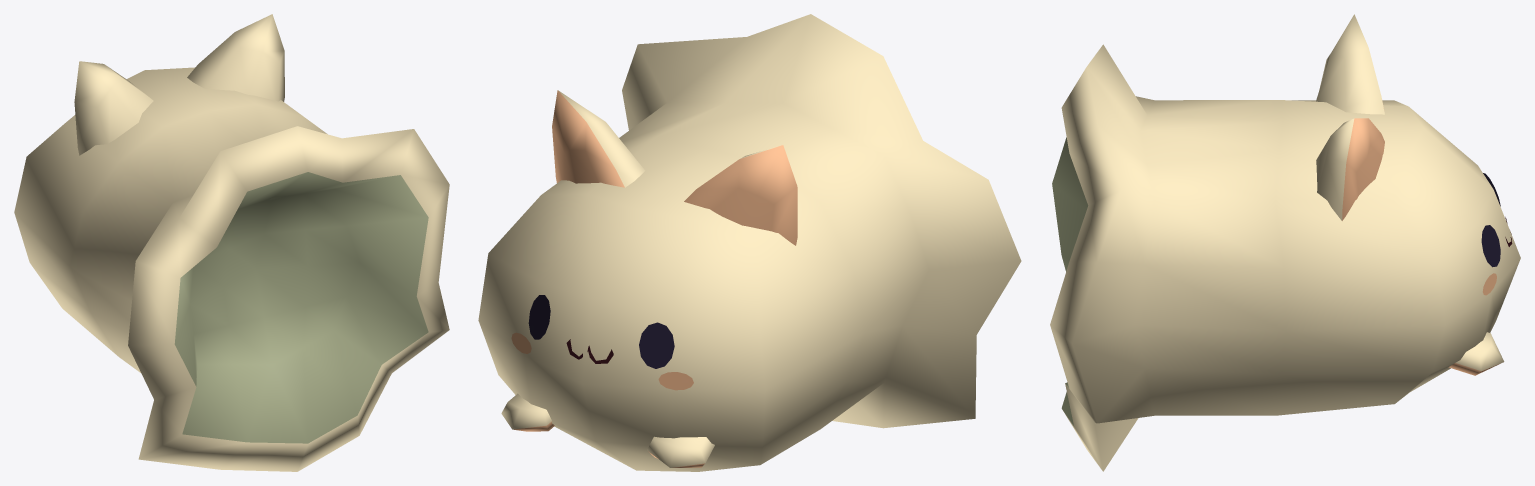
The model's file is GhostKitty_08_FBXexport.0010.fbx.
3 views of the same model, side by side, from view 1: azimuth 30°, elevation 25°; view 2: azimuth 150°, elevation 25°; view 3: azimuth 270°, elevation 25° (orthographic). The views are drawn at different scales.
Parts seen in each view (by area): view 1: Cat_Paws.001; view 2: Cat_Paws.001; view 3: Cat_Paws.001.
Part boxes in pixels (<box>): Cat_Paws.001: <box>14,14,449,471</box>; Cat_Paws.001: <box>478,14,1021,471</box>; Cat_Paws.001: <box>1050,14,1520,471</box>.
Size of the model in its own units: 372 by 371 by 413.
